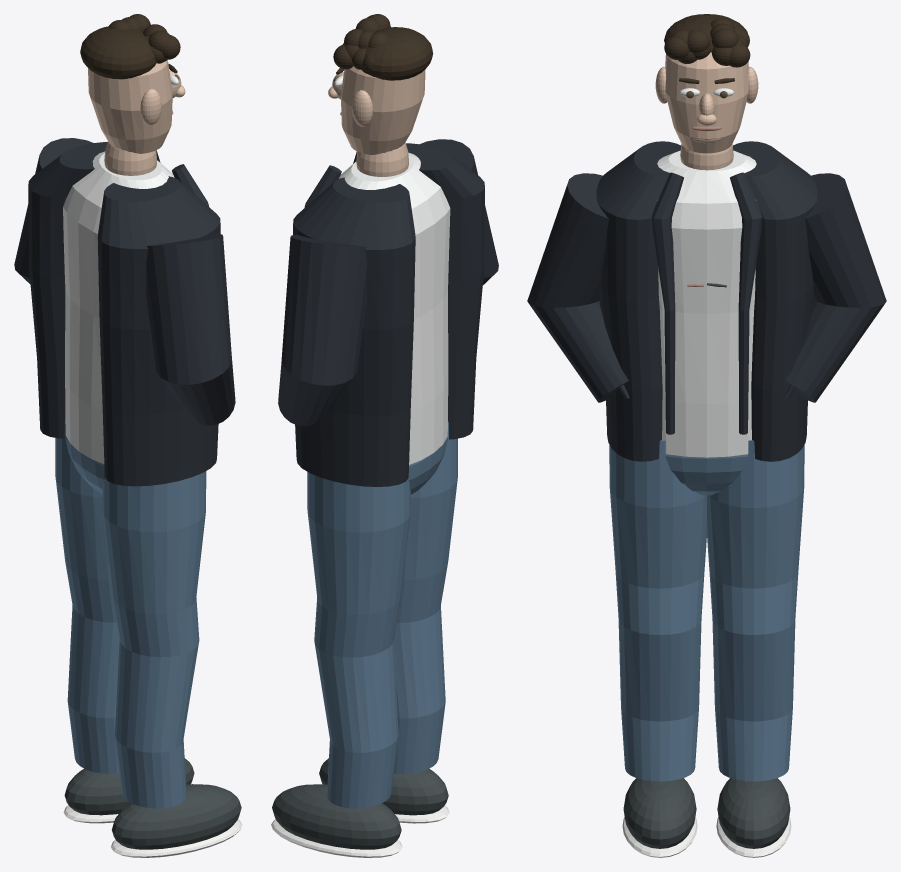
The model's file is person.glb.
The picture shows the model from 3 angles, left to right: view 1: azimuth 30°, elevation 25°; view 2: azimuth 150°, elevation 25°; view 3: azimuth 270°, elevation 25°; orthographic projection.
Size of the model in its own units: 0.3482 by 1.8 by 0.7281.
